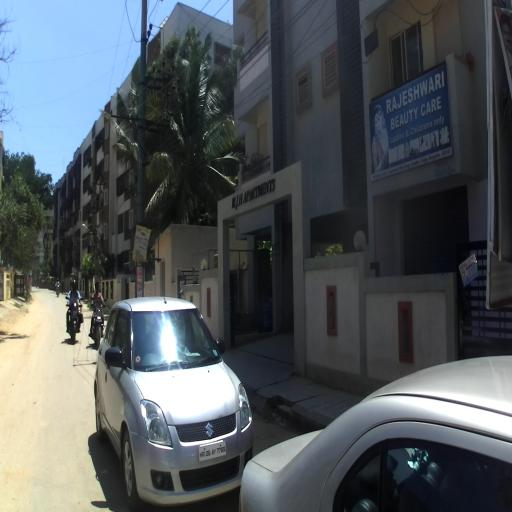street_light_0: (82, 224, 94, 238)
